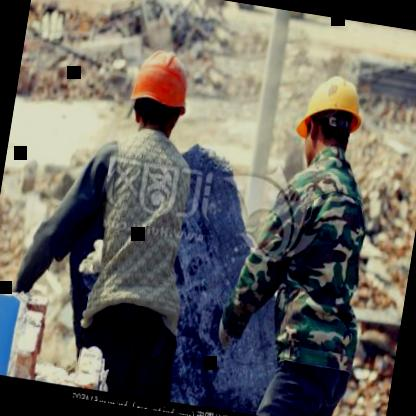helmet: (282, 62, 376, 182), (114, 38, 202, 152)
